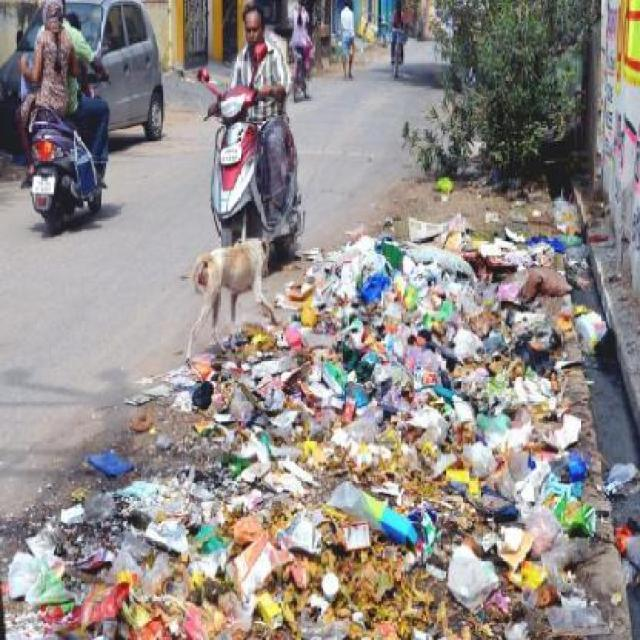garbage: (337, 230, 574, 639), (145, 386, 538, 623), (232, 257, 346, 433), (17, 485, 143, 639)
